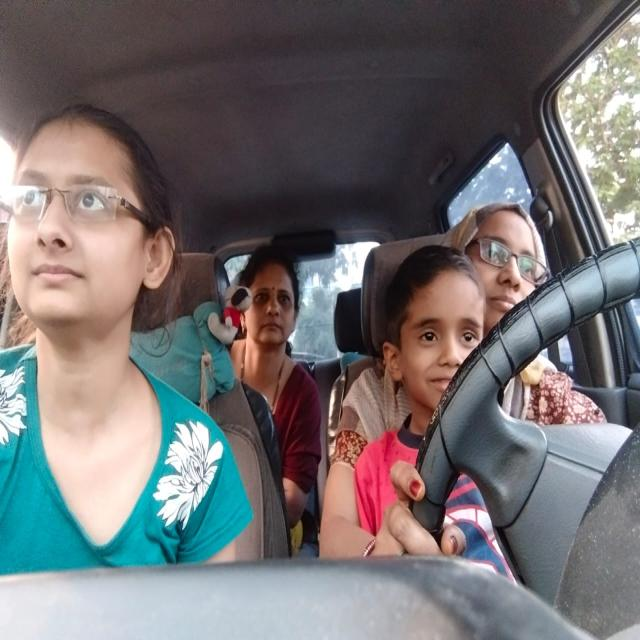child: (372, 247, 496, 408)
person: (0, 98, 176, 334), (474, 195, 546, 331), (238, 252, 302, 360)
